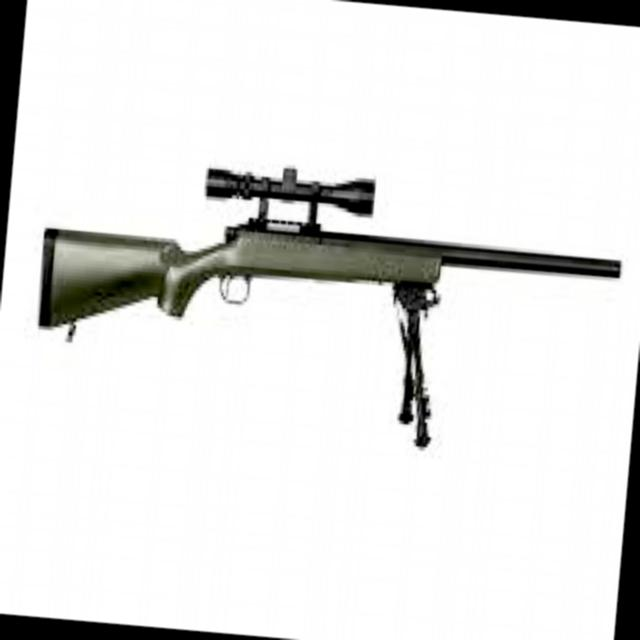rifle: (12, 121, 632, 482)
